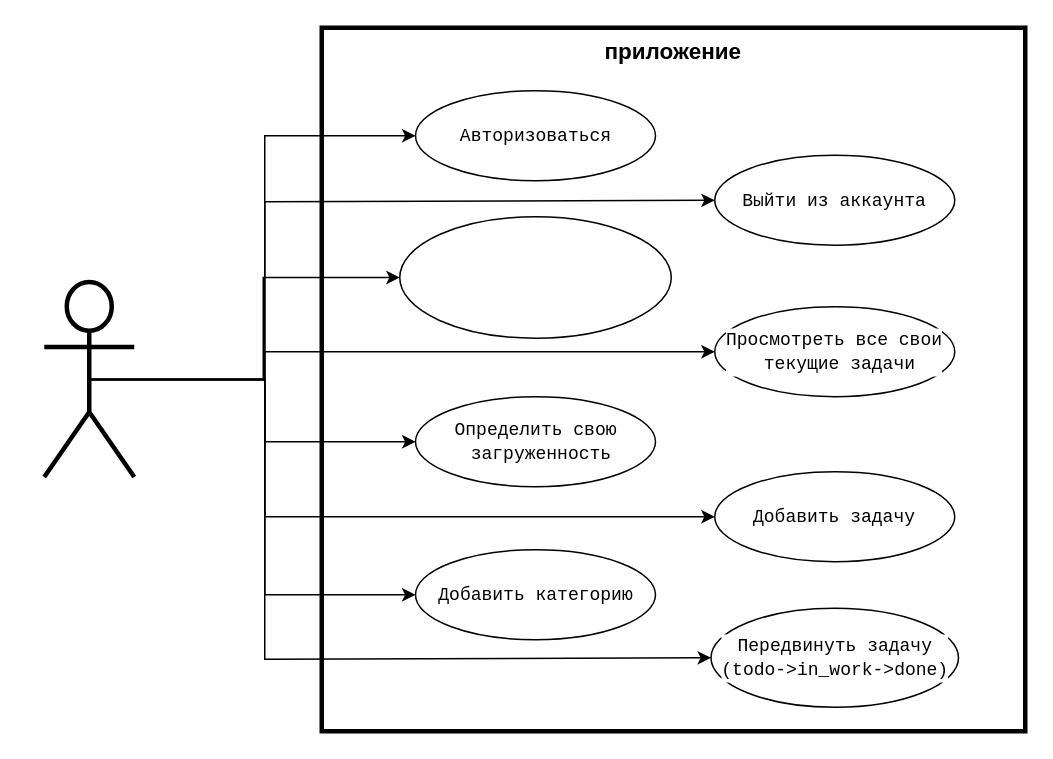
Some shapes in this 1053 by 759 pixel diagram are drawn without their labels. Here are the shapes that lost their labels. From the top down, the centre of each, then its label:
At (534,276): "Получить анализ времени выполнения задач (Cycle Time)".
At (88,378): "пользователь".
